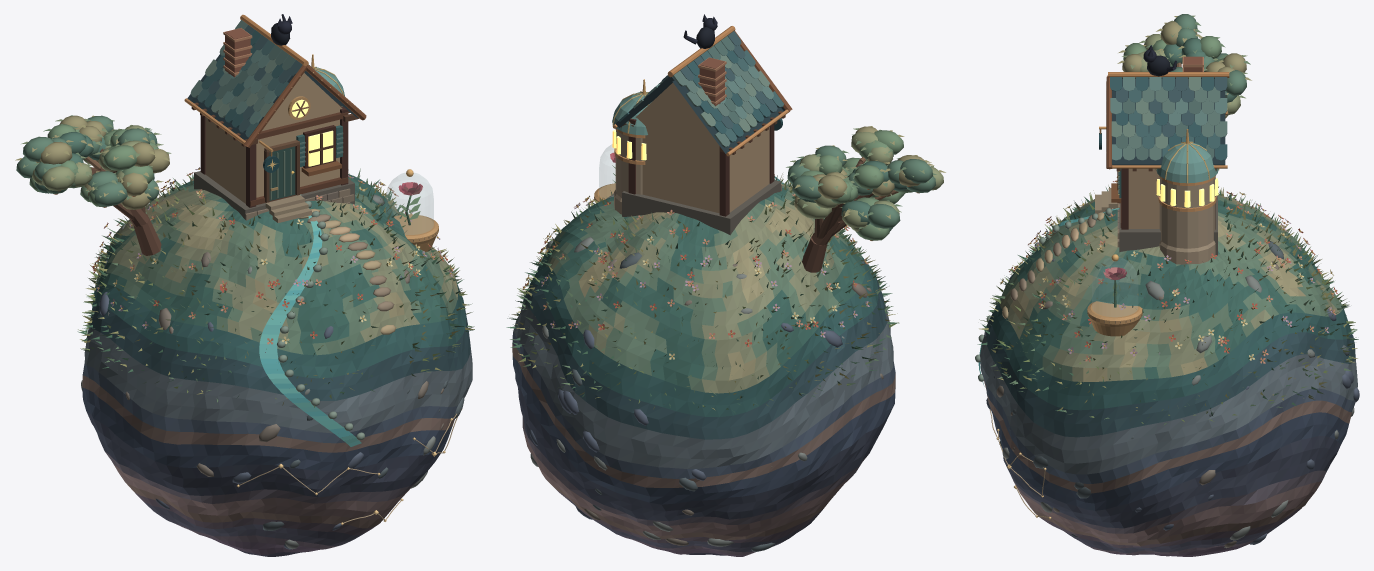
The model's file is rose-garden.glb.
3 renders of one model, left to right at view 1: azimuth 30°, elevation 25°; view 2: azimuth 150°, elevation 25°; view 3: azimuth 270°, elevation 25°, orthographic. The views are drawn at different scales.
Parts seen in each view (by area): view 1: B612_Asteroid_Body, Limewash and timber, B612_Tree, Wild thyme, poppies and grass, Fishscale roof tiles, Shale, cairns and garden steps, B612_Creek, Handblown bell, Gutters and observatory, Turned brass and enamel, LanternGlow, Inlaid southern sky atlas; view 2: B612_Asteroid_Body, Limewash and timber, B612_Tree, Wild thyme, poppies and grass, Fishscale roof tiles, Shale, cairns and garden steps, Gutters and observatory, Handblown bell, B612_Cat; view 3: B612_Asteroid_Body, Fishscale roof tiles, Limewash and timber, Wild thyme, poppies and grass, Shale, cairns and garden steps, B612_Tree, Gutters and observatory, Handblown bell, Turned brass and enamel, LanternGlow, B612_Cat.
Part boxes in pixels (<box>): B612_Asteroid_Body: <box>82,174,472,556</box>; Limewash and timber: <box>191,28,366,222</box>; B612_Tree: <box>15,115,171,255</box>; Wild thyme, poppies and grass: <box>77,167,474,407</box>; Fishscale roof tiles: <box>187,20,358,139</box>; Shale, cairns and garden steps: <box>81,194,464,549</box>; B612_Creek: <box>259,215,361,446</box>; Handblown bell: <box>386,173,433,234</box>; Gutters and observatory: <box>184,14,355,191</box>; Turned brass and enamel: <box>394,169,438,251</box>; LanternGlow: <box>291,99,333,166</box>; Inlaid southern sky atlas: <box>237,409,462,524</box>; B612_Asteroid_Body: <box>512,179,895,556</box>; Limewash and timber: <box>614,31,792,235</box>; B612_Tree: <box>786,126,945,272</box>; Wild thyme, poppies and grass: <box>506,173,899,413</box>; Fishscale roof tiles: <box>615,31,784,153</box>; Shale, cairns and garden steps: <box>522,182,883,551</box>; Gutters and observatory: <box>612,26,789,164</box>; Handblown bell: <box>599,145,615,198</box>; B612_Cat: <box>683,14,717,48</box>; B612_Asteroid_Body: <box>980,195,1357,556</box>; Fishscale roof tiles: <box>1110,77,1227,165</box>; Limewash and timber: <box>1095,56,1217,264</box>; Wild thyme, poppies and grass: <box>977,180,1358,424</box>; Shale, cairns and garden steps: <box>975,203,1359,548</box>; B612_Tree: <box>1117,14,1251,118</box>; Gutters and observatory: <box>1099,72,1229,211</box>; Handblown bell: <box>1092,257,1137,316</box>; Turned brass and enamel: <box>1087,254,1143,336</box>; LanternGlow: <box>1118,171,1218,207</box>; B612_Cat: <box>1143,45,1176,76</box>.
Size of the model in its own units: 5.56 by 6.7 by 4.69.
